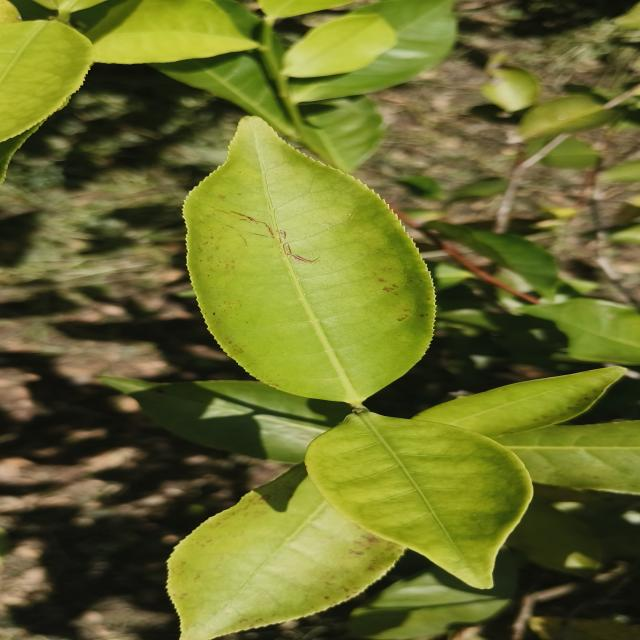Leaf: (184, 118, 434, 404), (167, 463, 404, 640), (306, 410, 532, 589), (104, 378, 350, 463), (292, 0, 457, 102), (412, 367, 625, 438), (348, 551, 516, 640), (151, 47, 297, 138), (0, 20, 93, 141), (85, 0, 258, 64), (494, 421, 640, 494), (428, 221, 558, 297), (522, 298, 640, 365), (507, 496, 602, 575), (283, 13, 396, 77), (299, 95, 385, 173), (519, 94, 617, 139), (481, 53, 540, 112), (541, 137, 600, 169), (214, 0, 260, 39), (527, 139, 549, 154)
